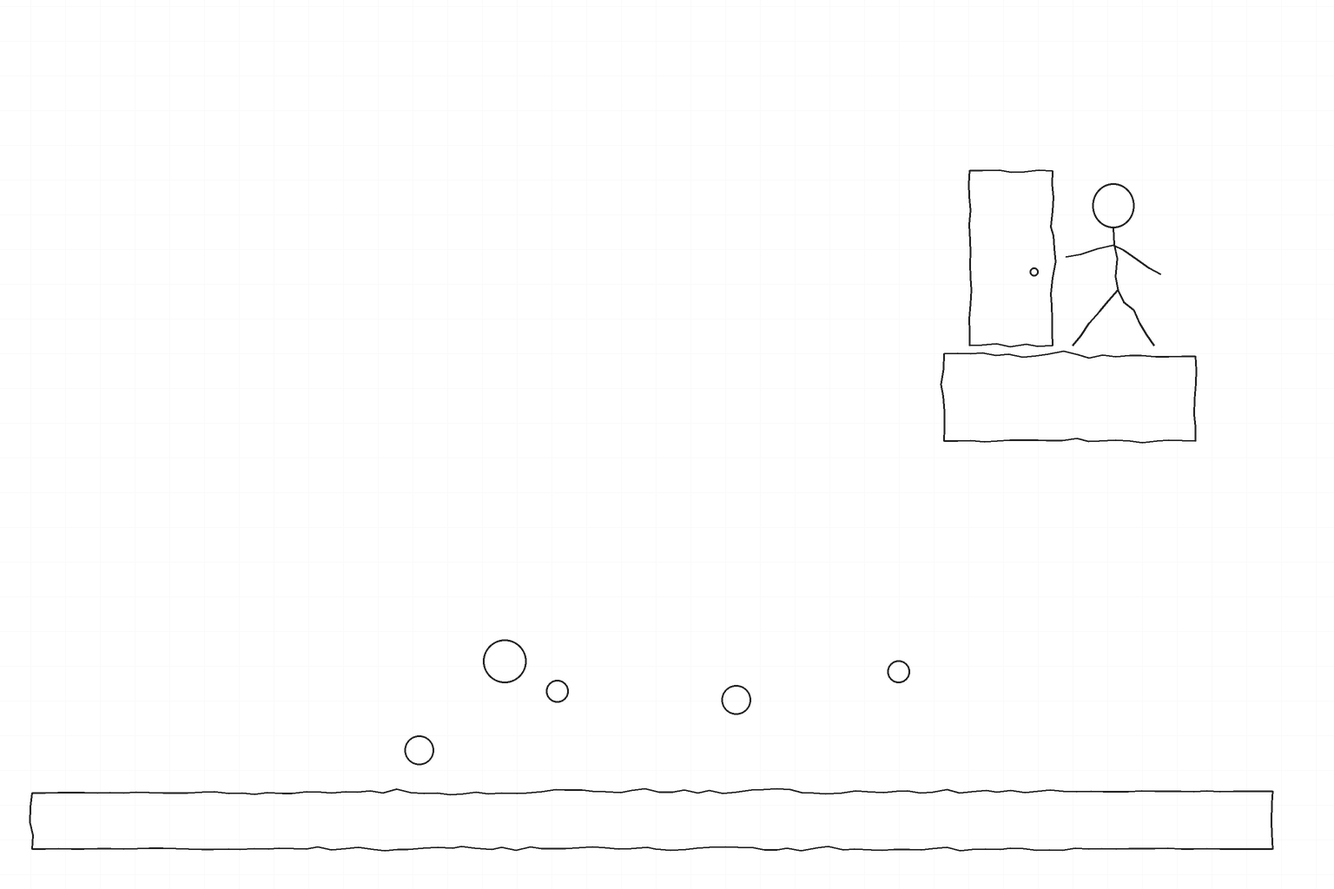exit: (1009, 122, 1148, 359)
player: (173, 609, 251, 756)
terrain: (50, 742, 1281, 848), (399, 504, 826, 603), (776, 327, 1202, 424)
